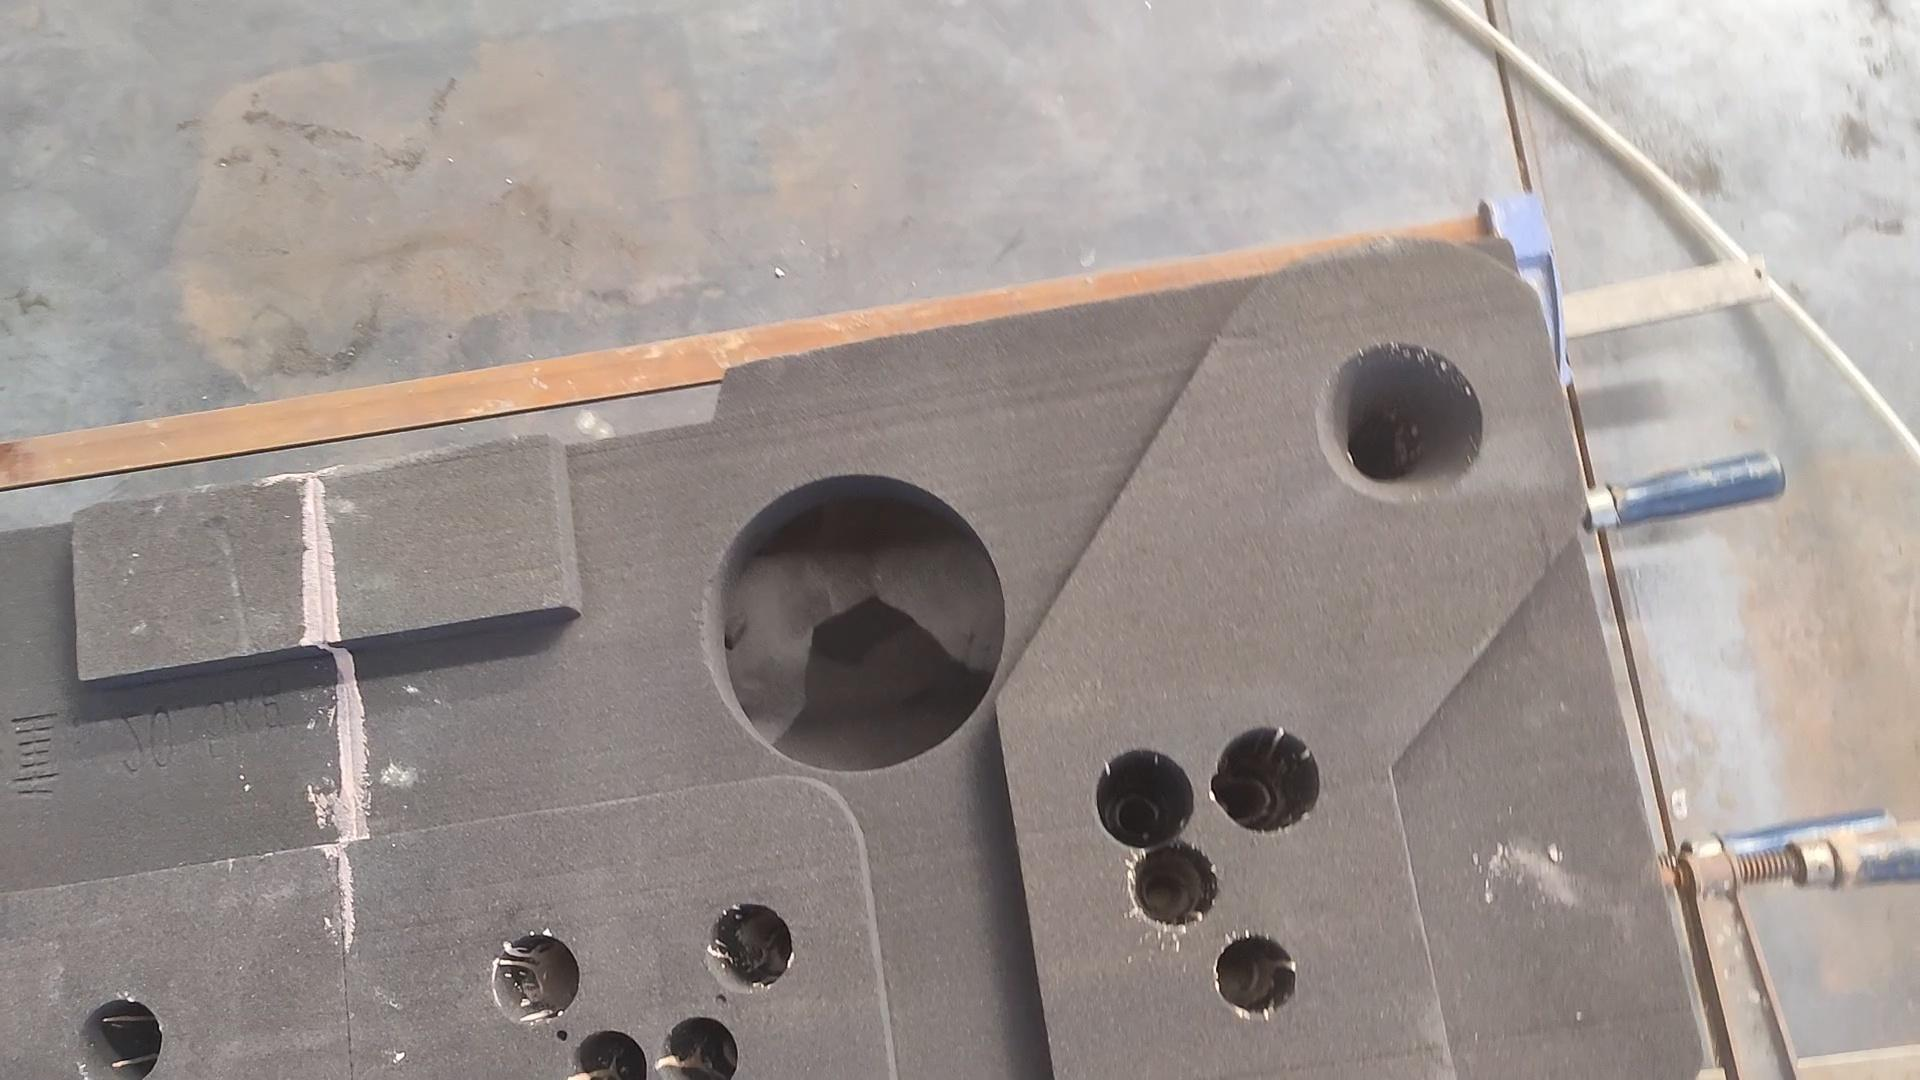pouring hole: (1316, 340, 1485, 502)
